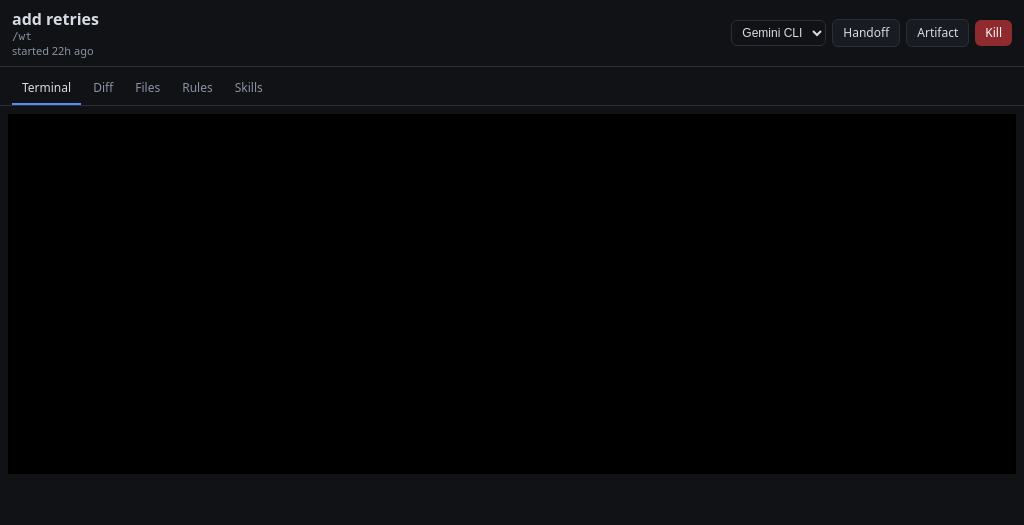
SessionDetail › publishes an artifact and shows the review branch
Step 1. Click the button with test id "artifact-button" → (938, 33), box left=906, top=19, right=969, bottom=47
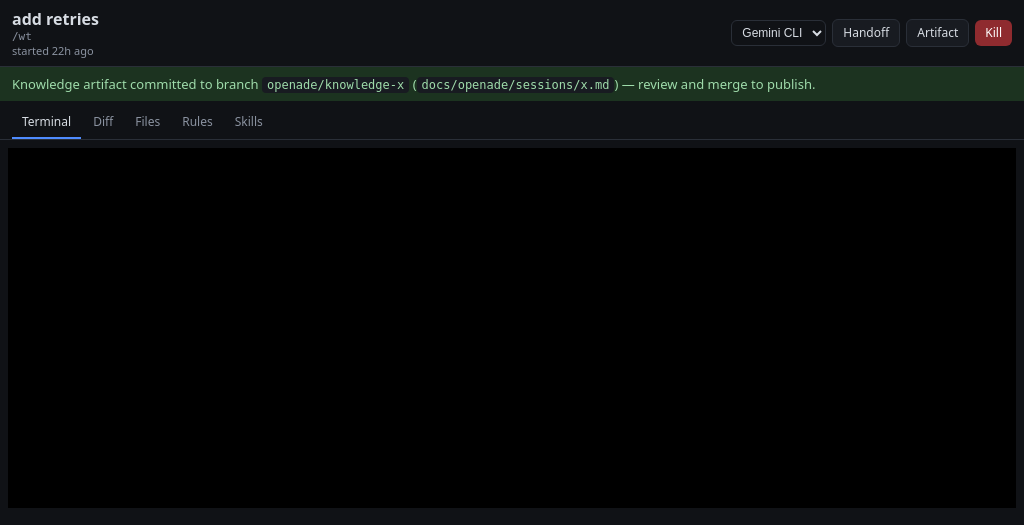
Expected: the text with test id "session-runtime" shows "started", left=12, top=43, right=52, bottom=58
Expected: the element with test id "artifact-banner" shows "openade/knowledge-x", left=267, top=78, right=404, bottom=92
